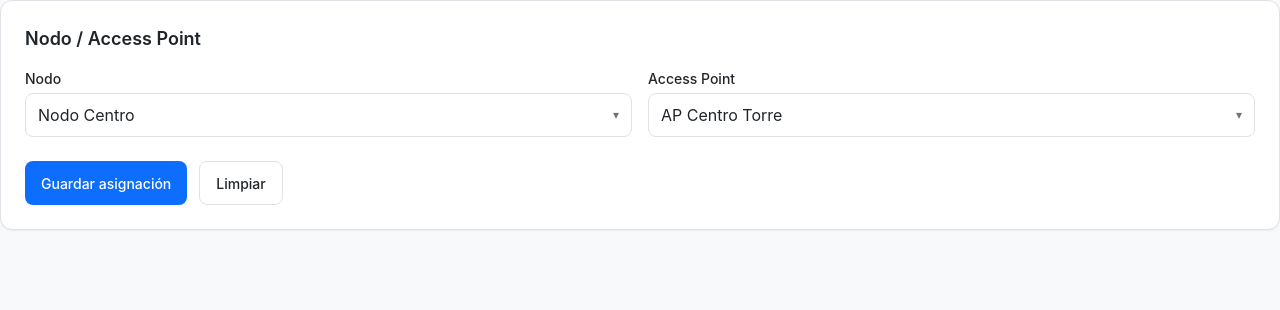
Test case: ContractNetworkAssignmentPicker › maps ACCESS_POINT_NOT_IN_SITE to a specific message
This screenshot has width=1280, height=310.
Click the button with test id "network-assignment-save-button" at (106, 183), box x1=25 y1=161 x2=187 y2=205
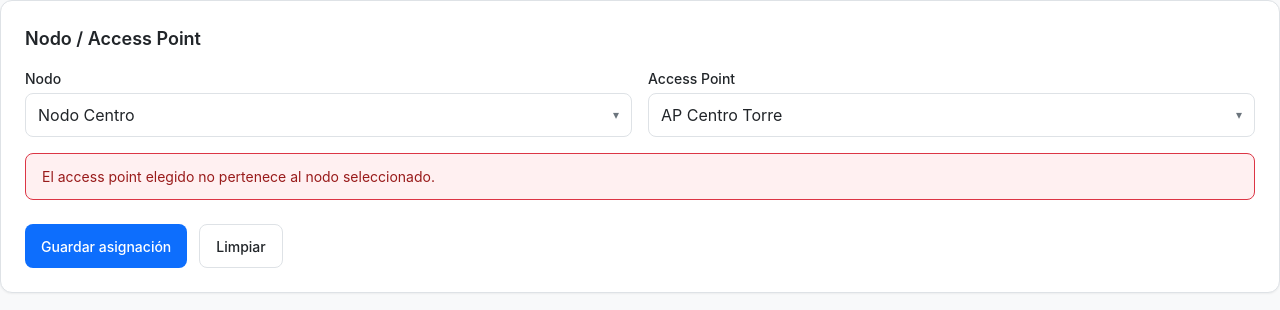
Expected: the message shows "no pertenece al nodo", x1=42 y1=168 x2=435 y2=185
